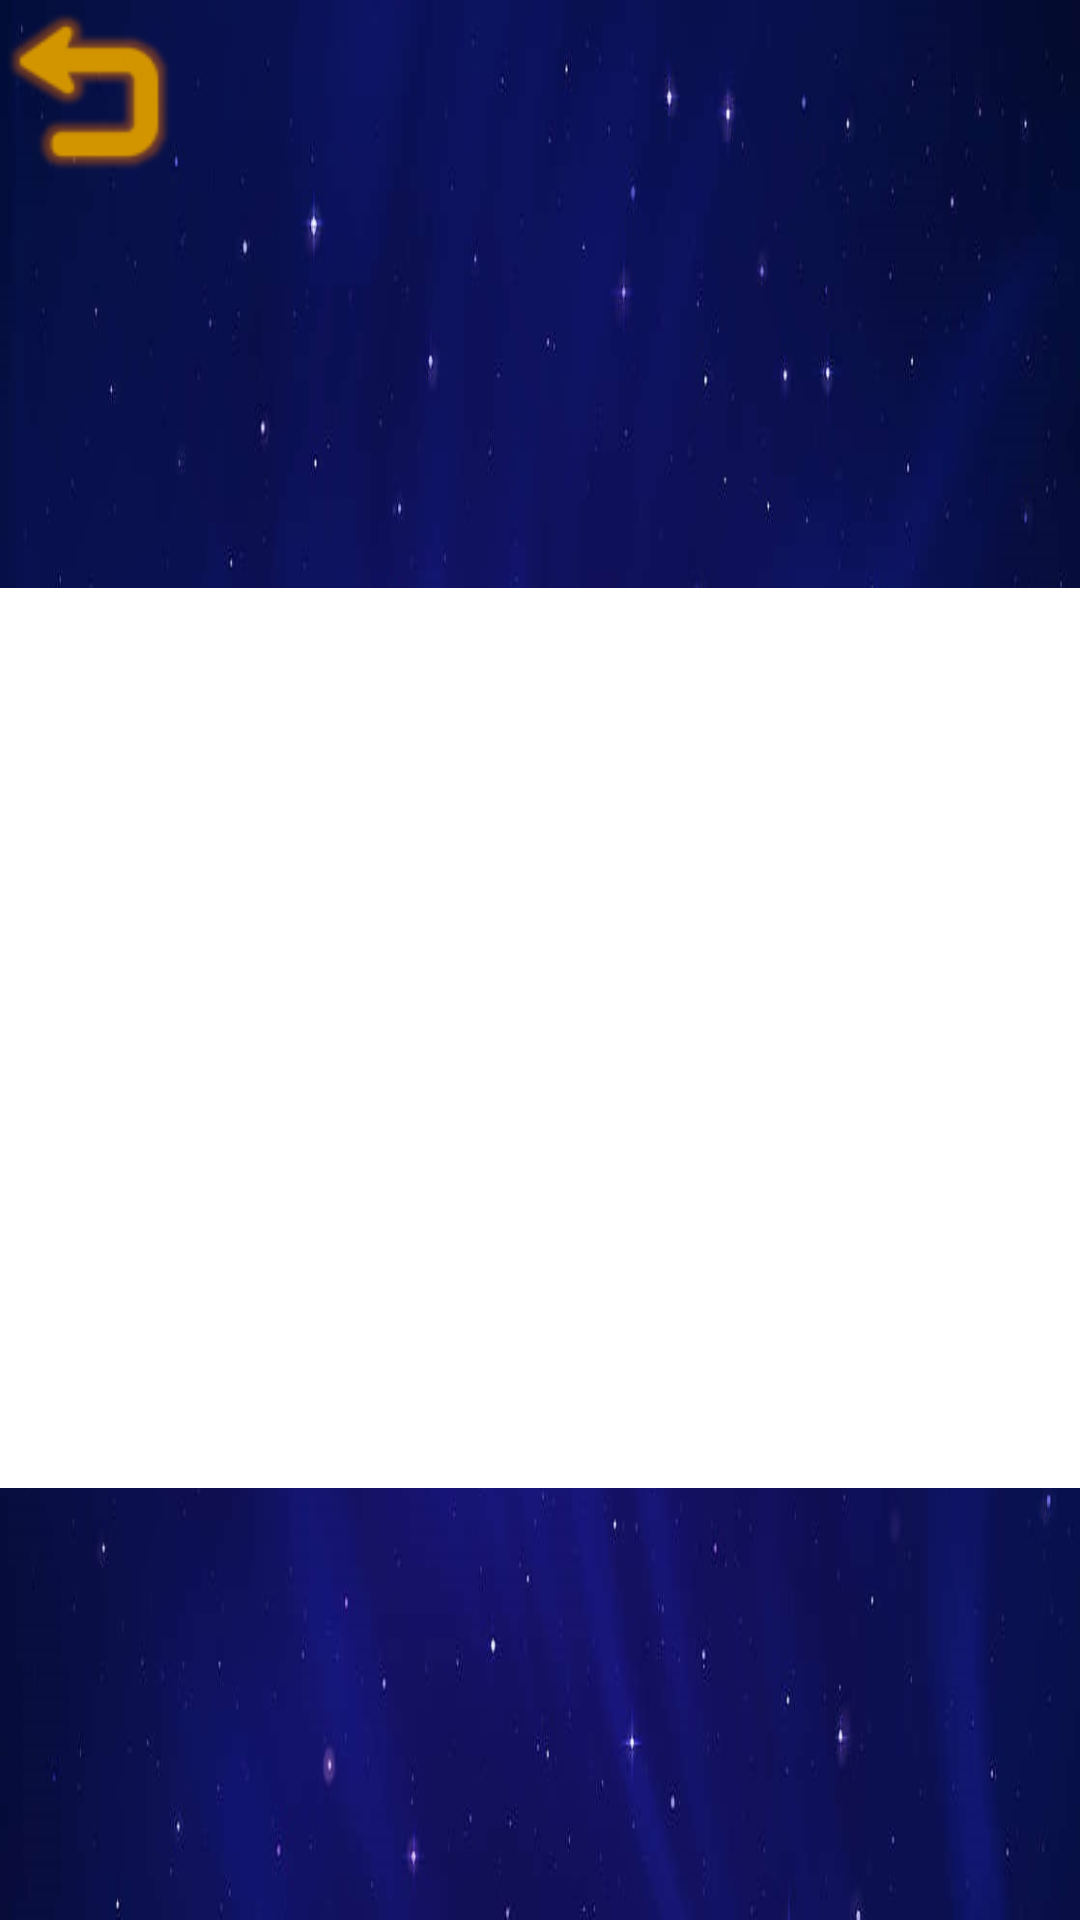

Icons on this 1080w x 1920h Android screen, each with its box as BBox(x1, y1, x2, y2):
Back Button: BBox(8, 0, 177, 167)
